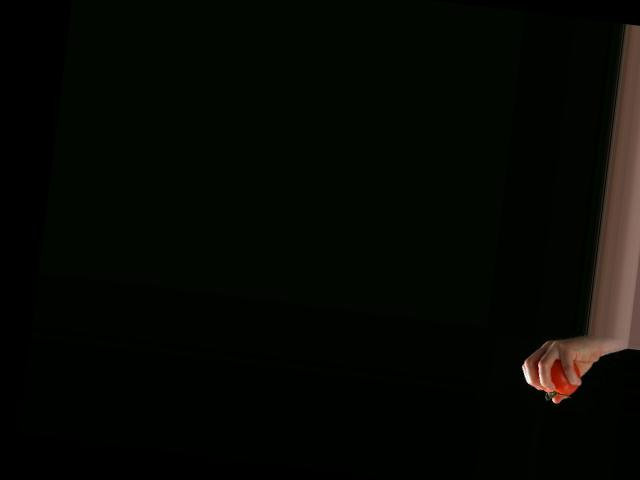tomato: (543, 356, 582, 396)
